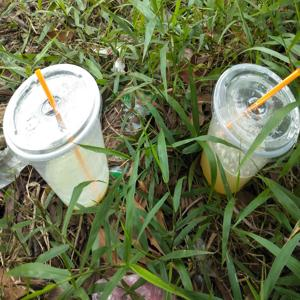plastic: (8, 53, 130, 212), (198, 53, 299, 207)
